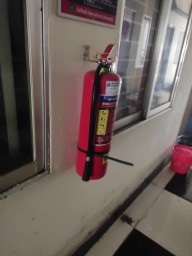fire_extinguisher: (33, 77, 137, 155)
